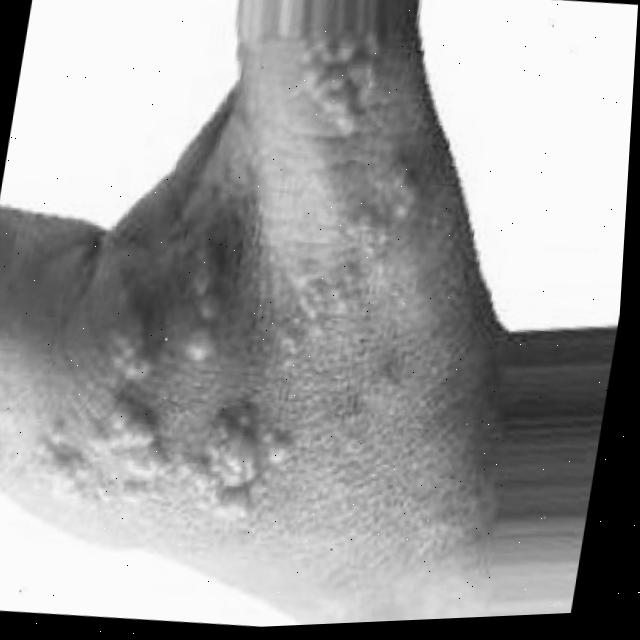Shingles: (30, 10, 463, 549)
